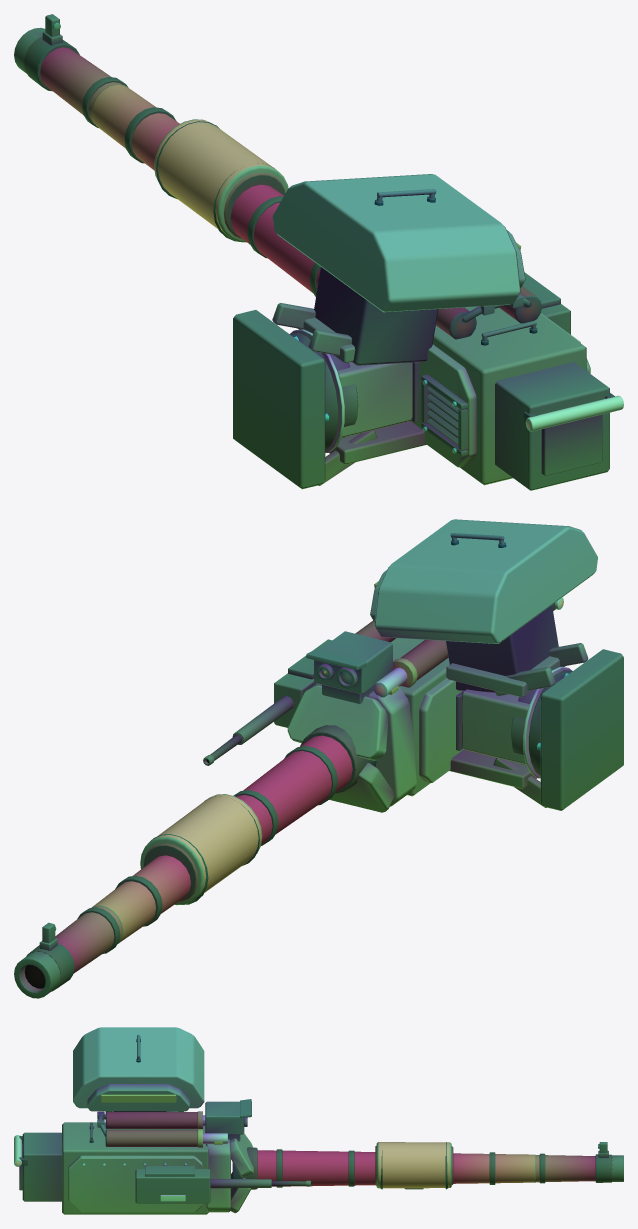
The model's file is arm_rh120.glb.
The picture shows the model from 3 angles, top to bottom: view 1: azimuth 30°, elevation 25°; view 2: azimuth 150°, elevation 25°; view 3: azimuth 270°, elevation 25°; orthographic projection. The views are drawn at different scales.
Parts seen in each view (by area): view 1: Body__armor, Body__gunmetal, Body__armor_sub, Body__dark, Body__armor_dark, Body__chrome; view 2: Body__armor, Body__gunmetal, Body__armor_sub, Body__dark, Body__armor_dark, Body__chrome; view 3: Body__armor, Body__armor_sub, Body__gunmetal, Body__dark, Body__armor_dark, Body__accent, Body__chrome.
Boxes of the visible parts, <box> form: Body__armor: <box>154,119,590,467</box>; Body__gunmetal: <box>14,28,609,490</box>; Body__armor_sub: <box>91,84,586,485</box>; Body__dark: <box>23,36,614,449</box>; Body__armor_dark: <box>45,14,602,475</box>; Body__chrome: <box>290,329,623,453</box>; Body__armor: <box>140,519,597,905</box>; Body__gunmetal: <box>14,533,623,998</box>; Body__armor_sub: <box>91,570,588,943</box>; Body__dark: <box>26,540,572,991</box>; Body__armor_dark: <box>42,631,392,943</box>; Body__chrome: <box>373,597,571,778</box>; Body__armor: <box>68,1027,451,1212</box>; Body__armor_sub: <box>62,1084,535,1214</box>; Body__gunmetal: <box>22,1034,623,1201</box>; Body__dark: <box>19,1039,612,1189</box>; Body__armor_dark: <box>19,1101,607,1203</box>; Body__accent: <box>101,1094,222,1144</box>; Body__chrome: <box>14,1111,227,1166</box>.
Bounding box in the file's own units: 1.24 × 1.05 × 3.9.
